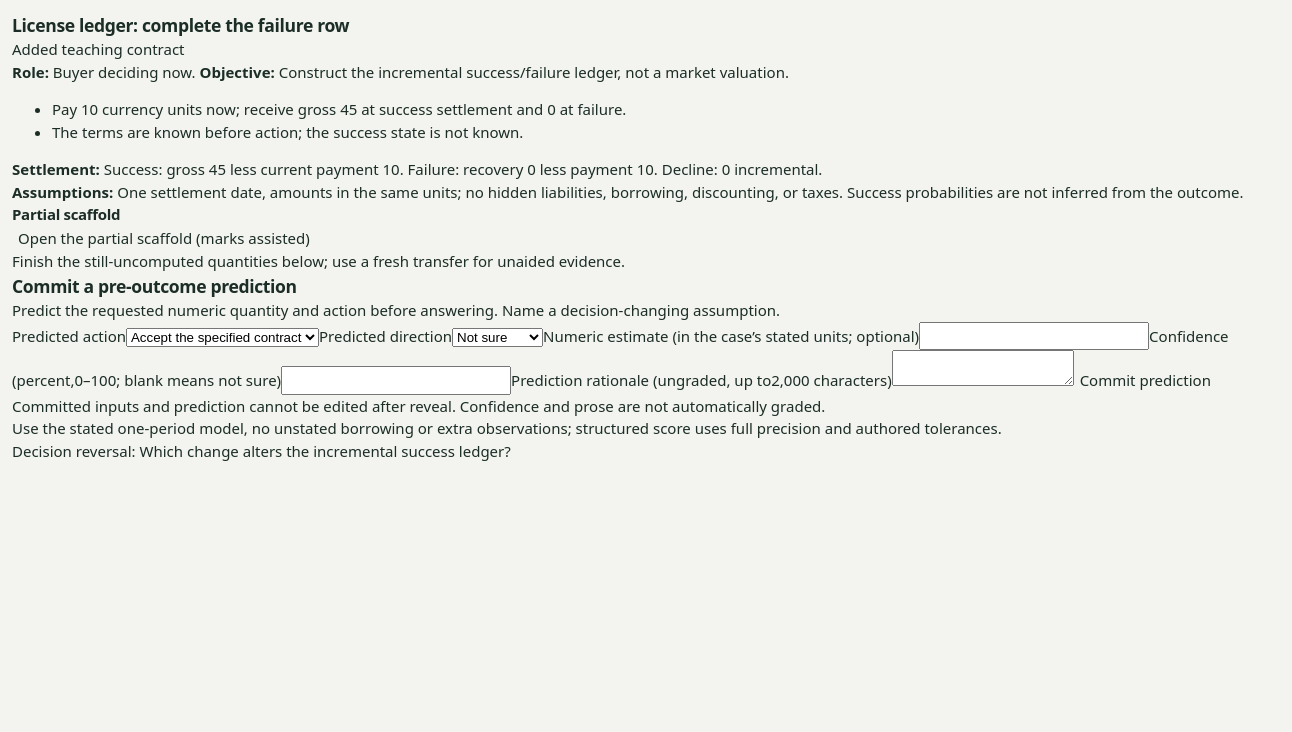
it: complete foundation bank interaction and honest availability › shows the supplied purchase row and grades failure profit -10, not success profit
Later steps or results of the test are not shown.
Expected: the text "Supplied purchase row:" is not shown
Click the button "Open the partial scaffold (marks assisted)". click: (164, 238)
box: [12,226,316,250]
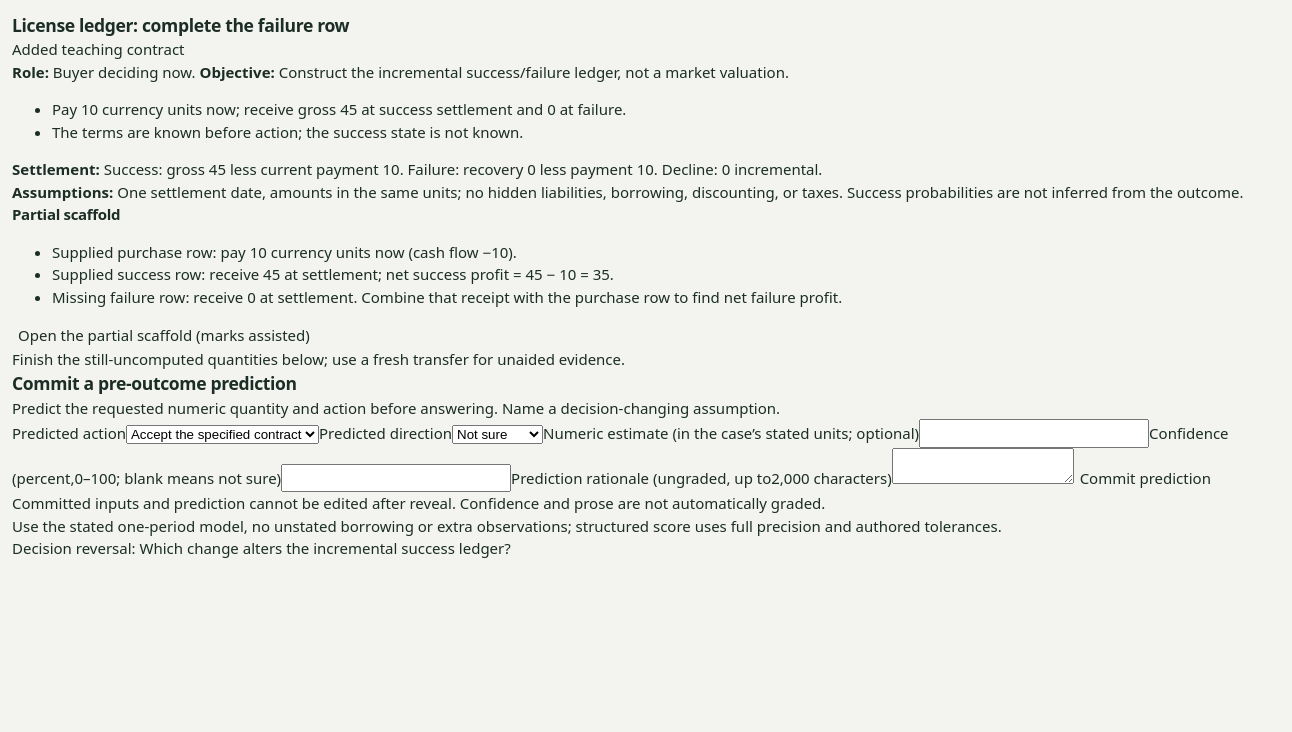
Expected: the list item "Supplied purchase row: pay 10" is shown, [52,242,517,262]
Expected: the list item "Missing failure row:" is shown, [52,287,842,307]
Expected: the button "Open the partial scaffold (marks assisted)" is disabled, [12,323,316,348]
